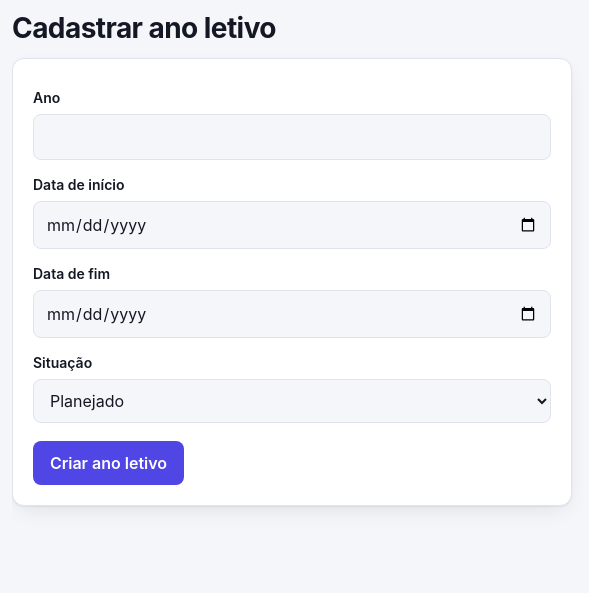
AnoLetivoPage › shows the 409 code message at the top of the form
Step 1. Type "2026" into the number field labelled "Ano" → (292, 137), box [33,114,551,160]
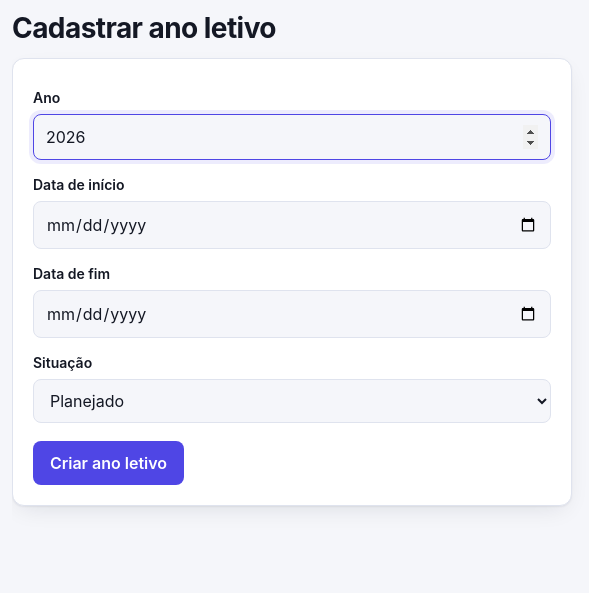
Step 2. Type "2026-02-01" into the date field labelled "Data de início" → (292, 225), box [33,201,551,249]
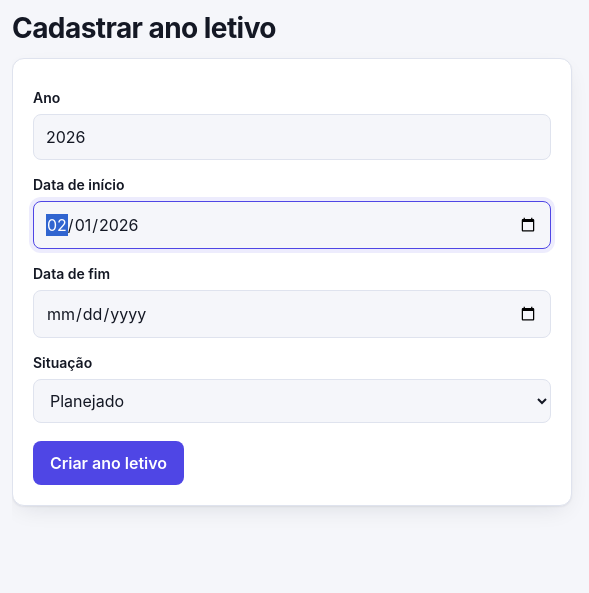
Step 3. Type "2026-12-15" into the date field labelled "Data de fim" → (292, 314), box [33,290,551,338]
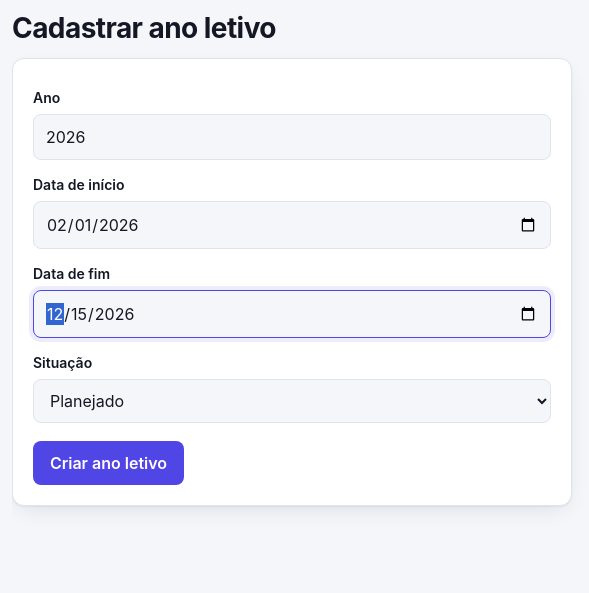
Step 4. Click the button "Criar ano letivo" → (109, 463), box [33,441,184,485]
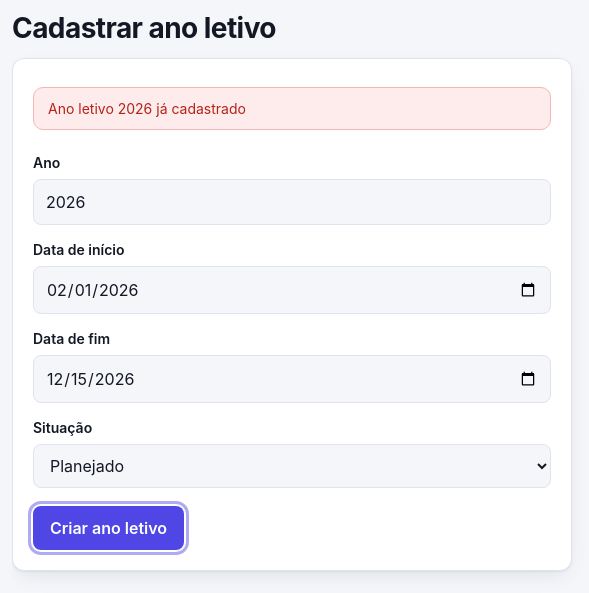
Result: the message reads "Ano letivo 2026 já cadastrado" at [48,100,246,117]
